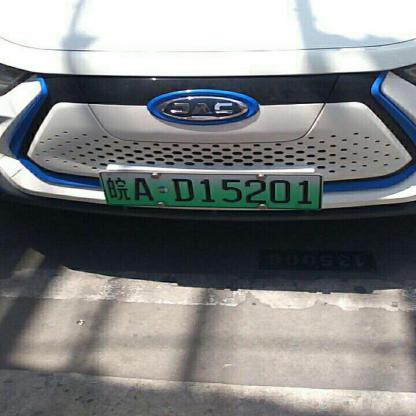lp: (102, 172, 321, 209)
